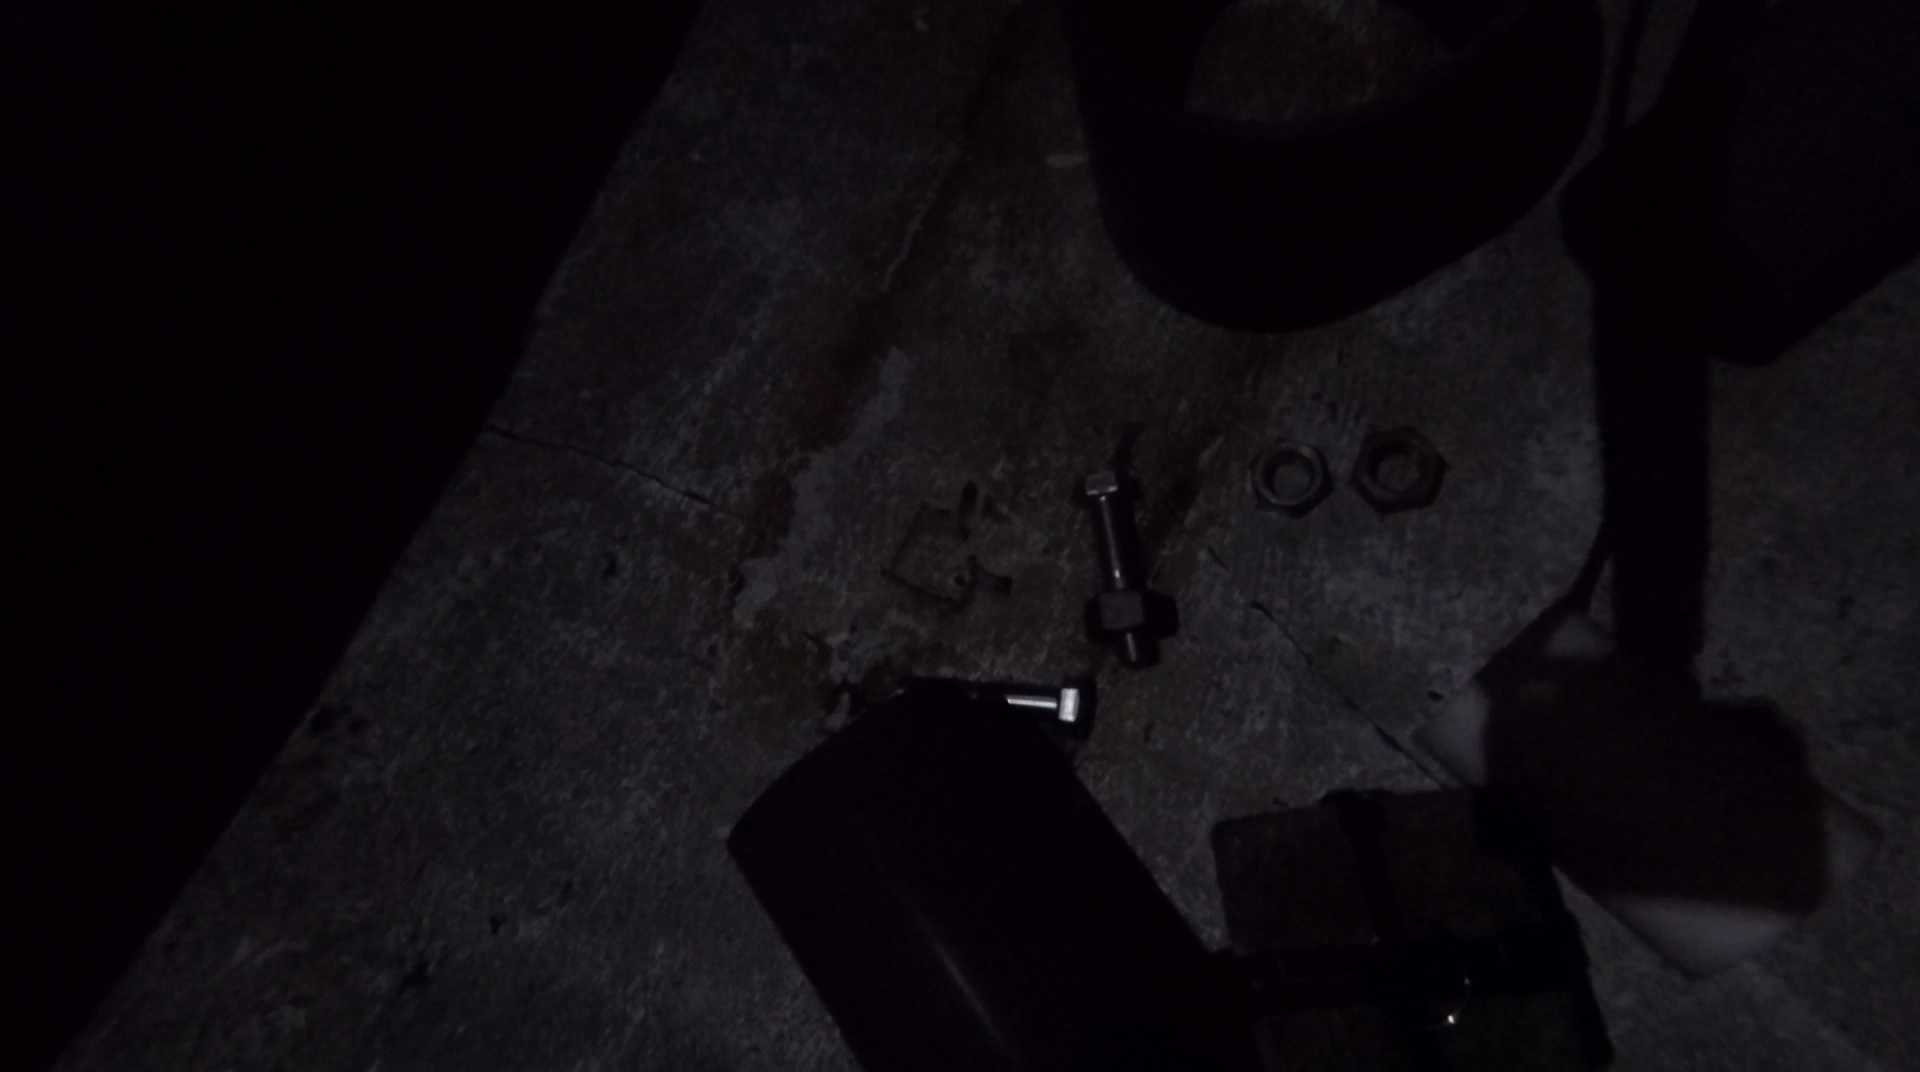bolt: (1073, 471, 1178, 670), (895, 671, 1101, 734)
led_block: (1211, 785, 1615, 1072)
nut: (1349, 425, 1451, 514), (1247, 436, 1333, 520), (1081, 589, 1180, 645)
pipe: (727, 691, 1240, 1072), (1411, 599, 1887, 986), (1087, 1, 1604, 330)
